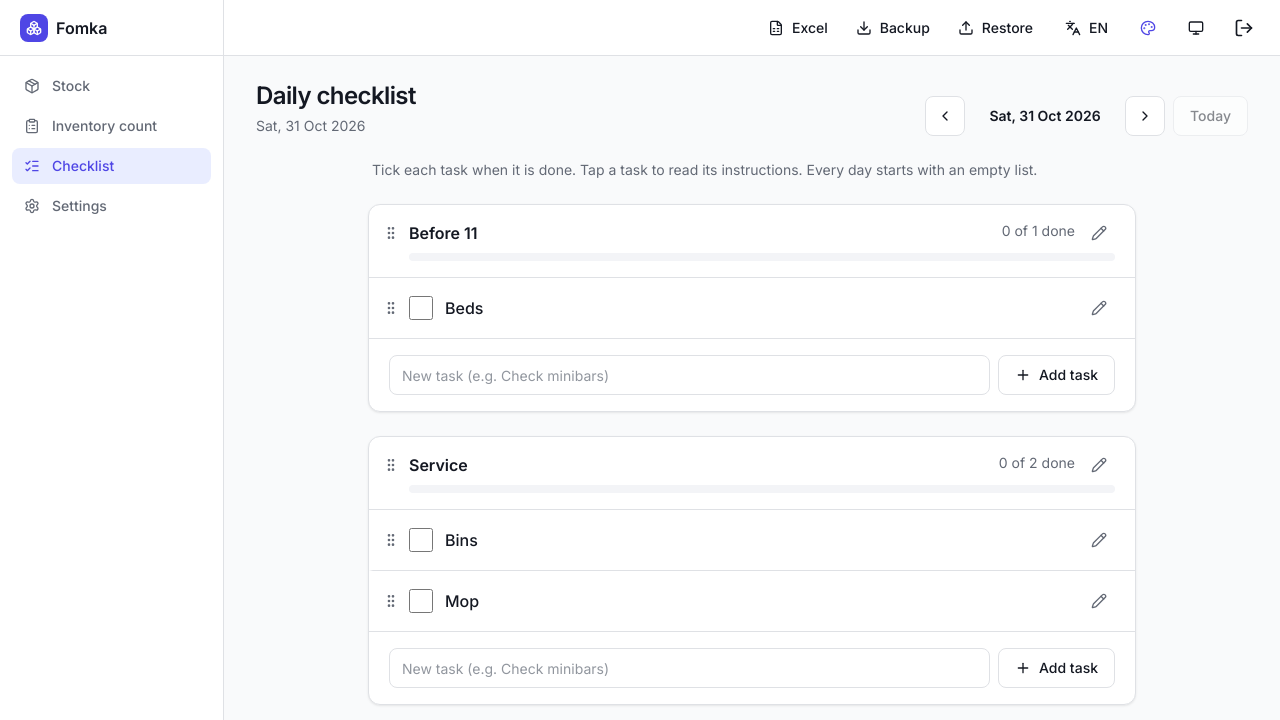
Test: checklist › groups › deleting a group moves its tasks to the group above
This screenshot has width=1280, height=720.
Click the button named "Edit group Service" at (1099, 465), box [1083,449,1115,481]
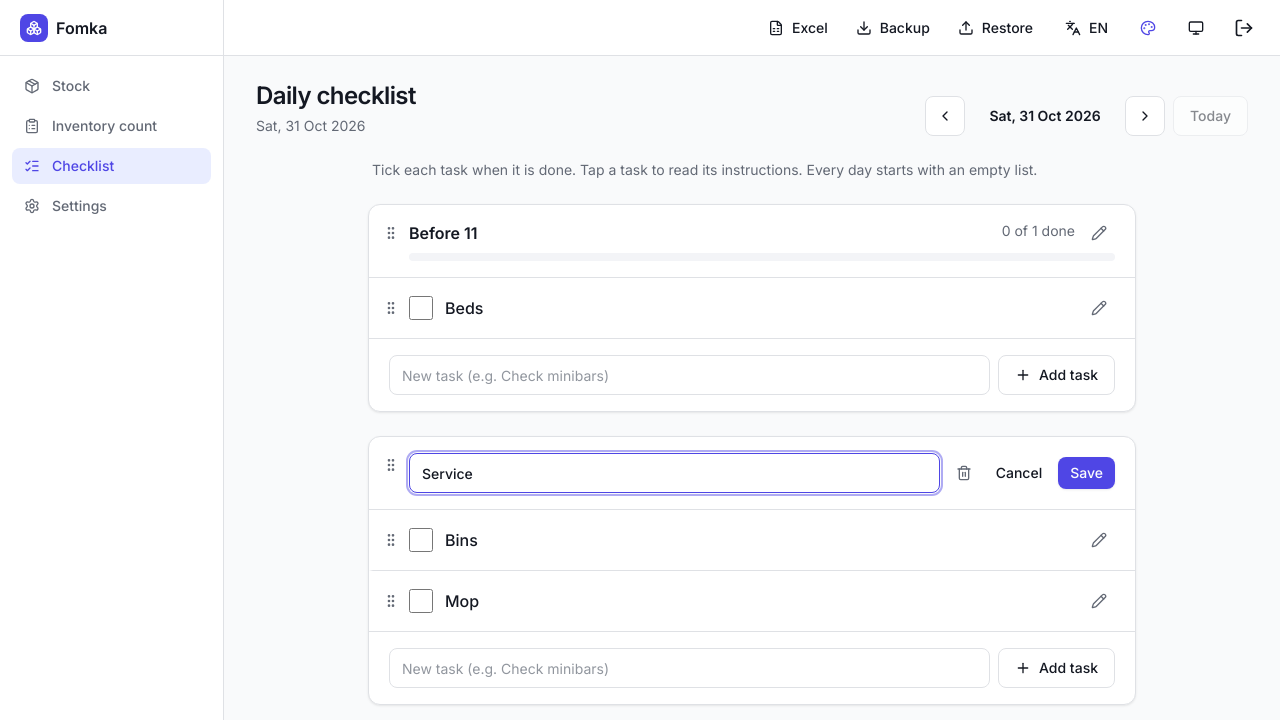
Click the button named "Delete group Service" at (964, 473), box [948,457,980,489]
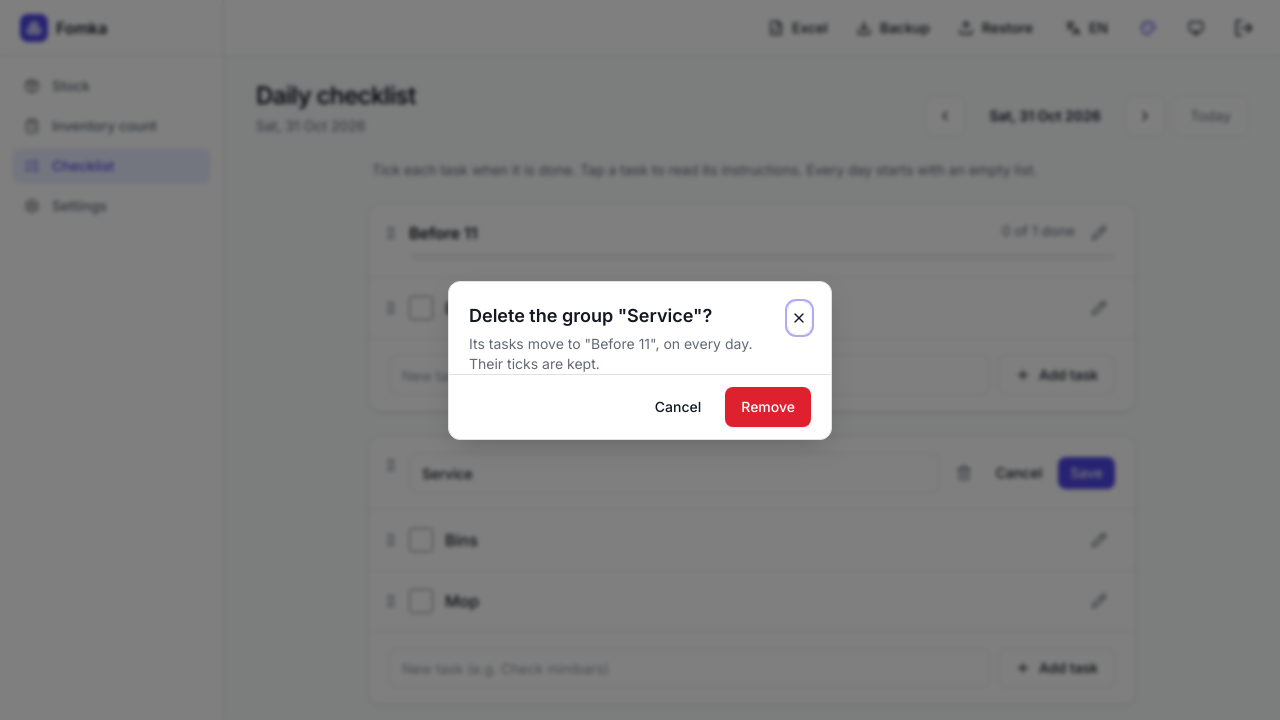
Click the button "Remove" at (768, 406), box [725,386,811,426]
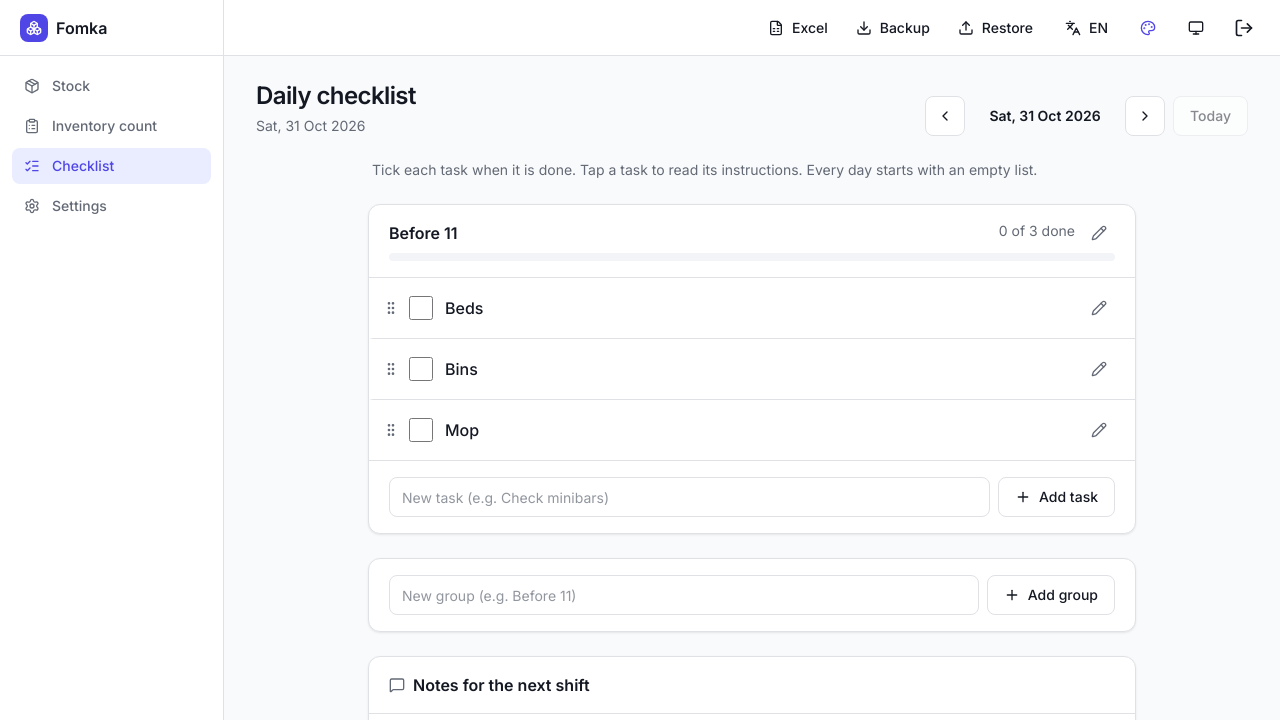
Expected: the number of checkboxes is 3, [409,296,433,320]; [409,357,433,381]; [409,418,433,442]
Result: the heading "Service" is gone
Note: The last group can't be deleted
Click the button named "Edit group Before 11" at (1099, 233), box [1083,217,1115,249]
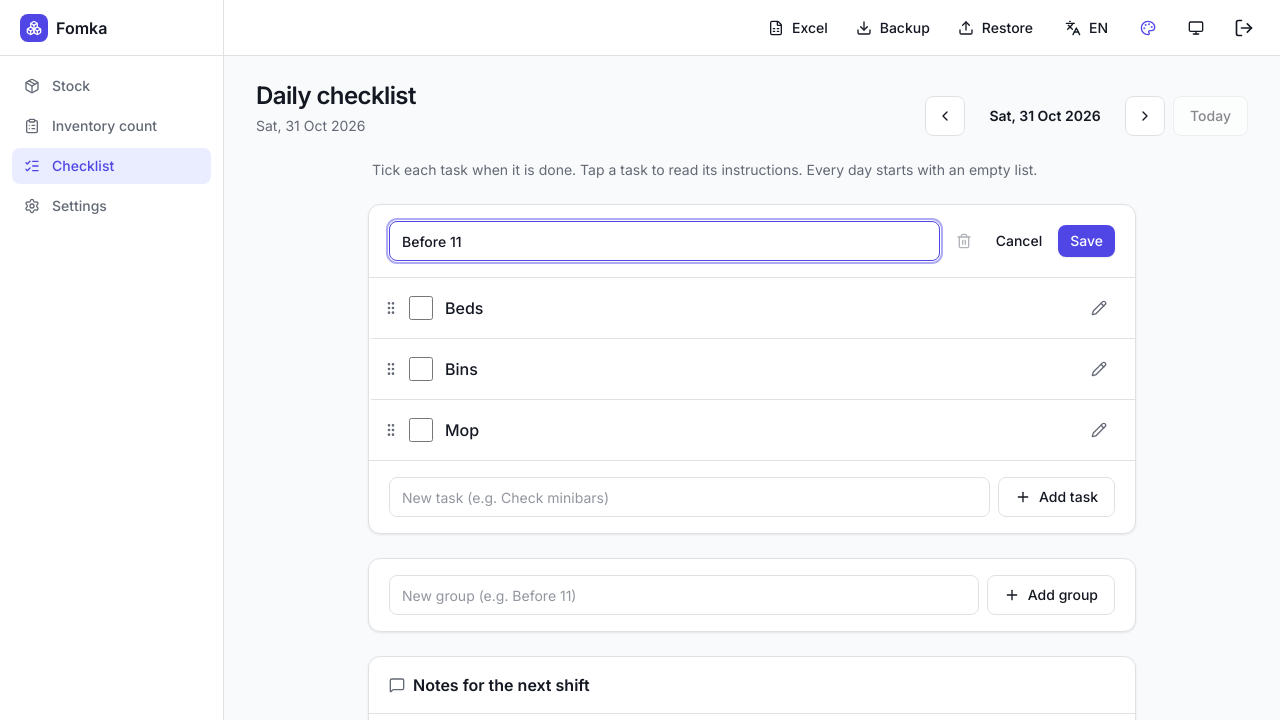
Result: the button named "Delete group Before 11" is disabled at [948,225,980,257]
